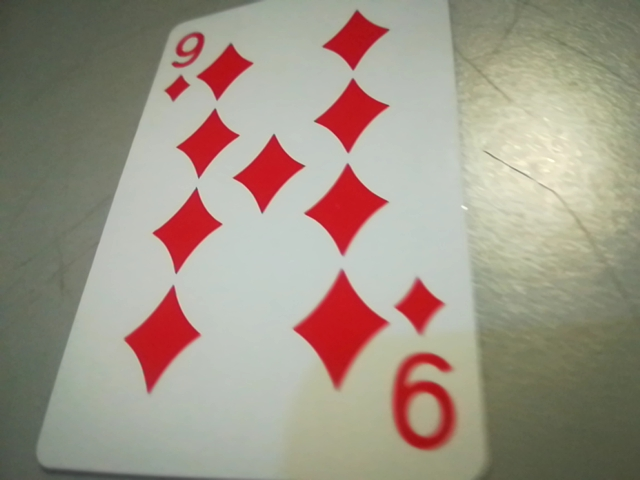fk 9: (381, 264, 473, 463)
